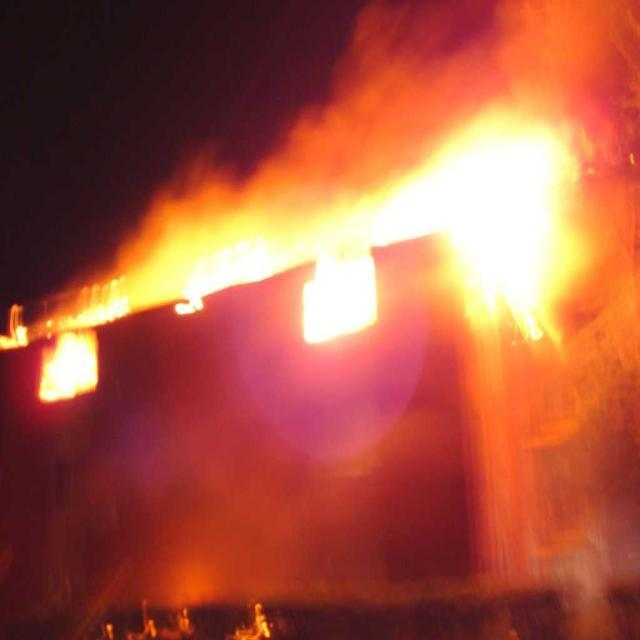Fire: (30, 168, 407, 396), (419, 117, 607, 346)
